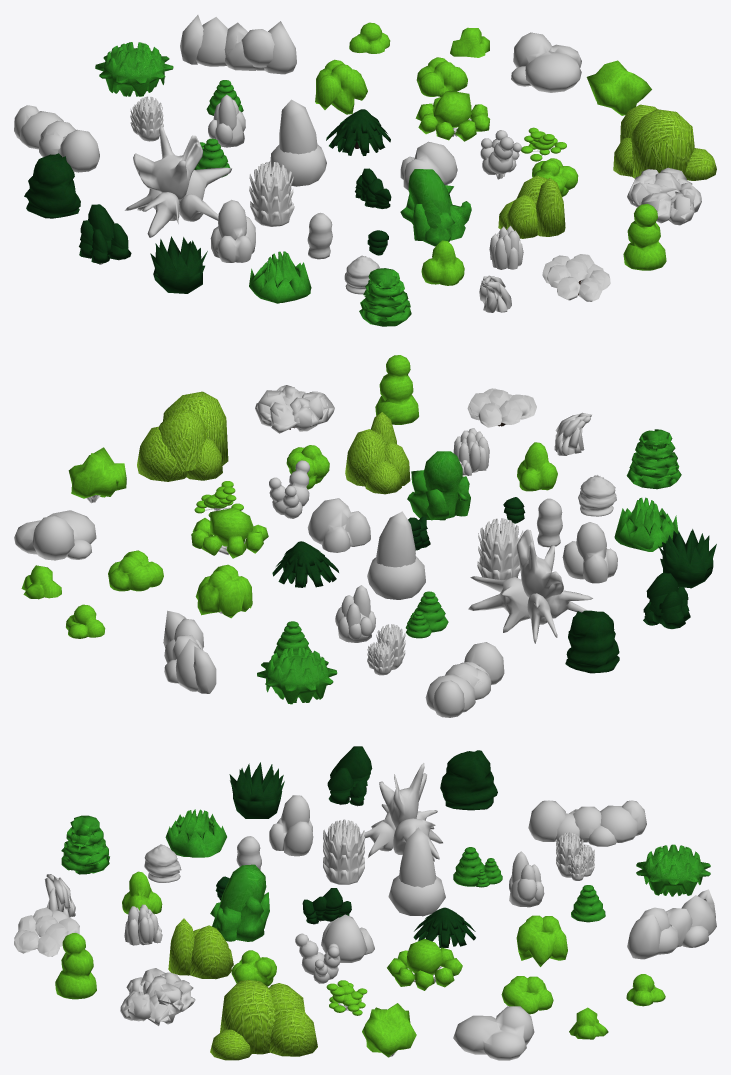
The picture shows the model from 3 angles, top to bottom: view 1: azimuth 30°, elevation 25°; view 2: azimuth 150°, elevation 25°; view 3: azimuth 270°, elevation 25°; orthographic projection. The views are drawn at different scales.
Parts seen in each view (by area): view 1: Fantasy Bush 8, Fantasy Bush 31, Fantasy Bush 33, Fantasy Bush 14, Fantasy Bush 32, Fantasy Bush 7, Fantasy Bush 30, Fantasy Bush 11, Fantasy Bush 13, Fantasy Tree 19, Fantasy Bush 36, Fantasy Bush 34 (+28 smaller); view 2: Fantasy Bush 8, Fantasy Bush 31, Fantasy Bush 11, Fantasy Bush 32, Fantasy Bush 30, Fantasy Bush 14, Fantasy Bush 33, Fantasy Bush 7, Fantasy Tree 19, Fantasy Bush 36, Fantasy Bush 13, Fantasy Bush 34 (+27 smaller); view 3: Fantasy Bush 8, Fantasy Bush 32, Fantasy Bush 33, Fantasy Bush 14, Fantasy Bush 31, Fantasy Bush 30, Fantasy Bush 7, Fantasy Bush 13, Fantasy Bush 11, Fantasy Bush 36, Fantasy Tree 19, Fantasy Bush 34 (+28 smaller).
Part boxes in pixels (x1,y1,x2,y2): Fantasy Bush 8: [613, 104, 716, 180]; Fantasy Bush 31: [124, 125, 231, 237]; Fantasy Bush 33: [180, 15, 296, 74]; Fantasy Bush 14: [400, 169, 471, 246]; Fantasy Bush 32: [14, 105, 99, 172]; Fantasy Bush 7: [511, 32, 581, 92]; Fantasy Bush 30: [270, 99, 326, 186]; Fantasy Bush 11: [498, 175, 565, 238]; Fantasy Bush 13: [627, 167, 701, 225]; Fantasy Tree 19: [95, 42, 173, 96]; Fantasy Bush 36: [24, 153, 80, 218]; Fantasy Bush 34: [415, 90, 490, 141]; Fantasy Bush 8: [137, 391, 228, 481]; Fantasy Bush 31: [468, 529, 592, 643]; Fantasy Bush 11: [345, 412, 410, 494]; Fantasy Bush 32: [425, 642, 504, 717]; Fantasy Bush 30: [367, 511, 425, 599]; Fantasy Bush 14: [407, 451, 470, 520]; Fantasy Bush 33: [163, 610, 216, 693]; Fantasy Bush 7: [14, 510, 96, 560]; Fantasy Tree 19: [257, 647, 337, 704]; Fantasy Bush 36: [565, 610, 619, 673]; Fantasy Bush 13: [255, 385, 334, 433]; Fantasy Bush 34: [191, 507, 268, 558]; Fantasy Bush 8: [210, 980, 317, 1060]; Fantasy Bush 32: [528, 800, 646, 846]; Fantasy Bush 33: [627, 889, 716, 959]; Fantasy Bush 14: [210, 864, 269, 941]; Fantasy Bush 31: [360, 763, 442, 861]; Fantasy Bush 30: [388, 827, 445, 916]; Fantasy Bush 7: [453, 1006, 534, 1060]; Fantasy Bush 13: [120, 968, 195, 1025]; Fantasy Bush 11: [168, 918, 233, 979]; Fantasy Bush 36: [440, 750, 497, 810]; Fantasy Tree 19: [636, 844, 710, 896]; Fantasy Bush 34: [387, 939, 462, 990].
Size of the model in its own units: 231 by 33.92 by 245.
